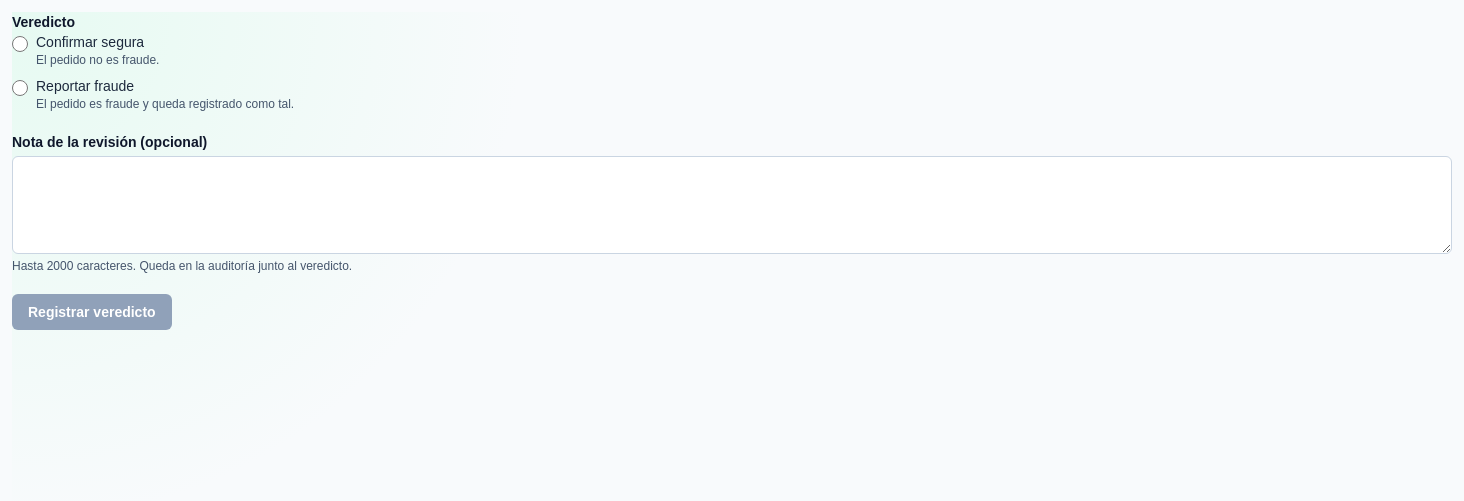
Test case: formulario de revisión › muestra el detalle de la API como información secundaria, no como el texto principal
Click the radio button labelled "Confirmar segura El pedido no es fraude." at (20,44), box [12,36,28,52]
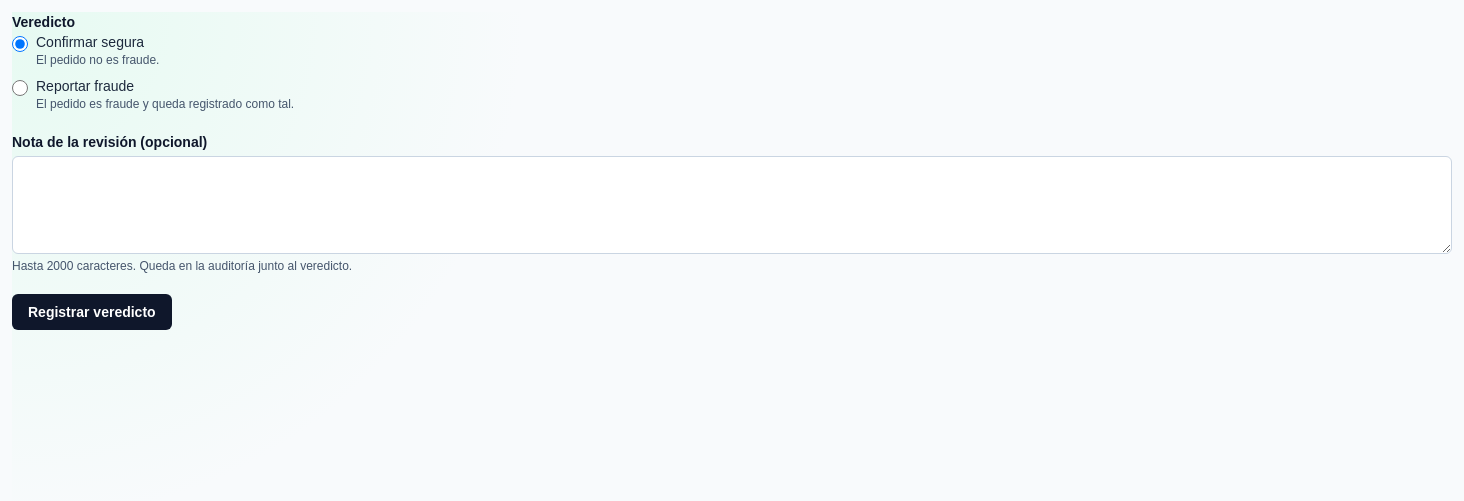
Submit the form named "Registrar veredicto"
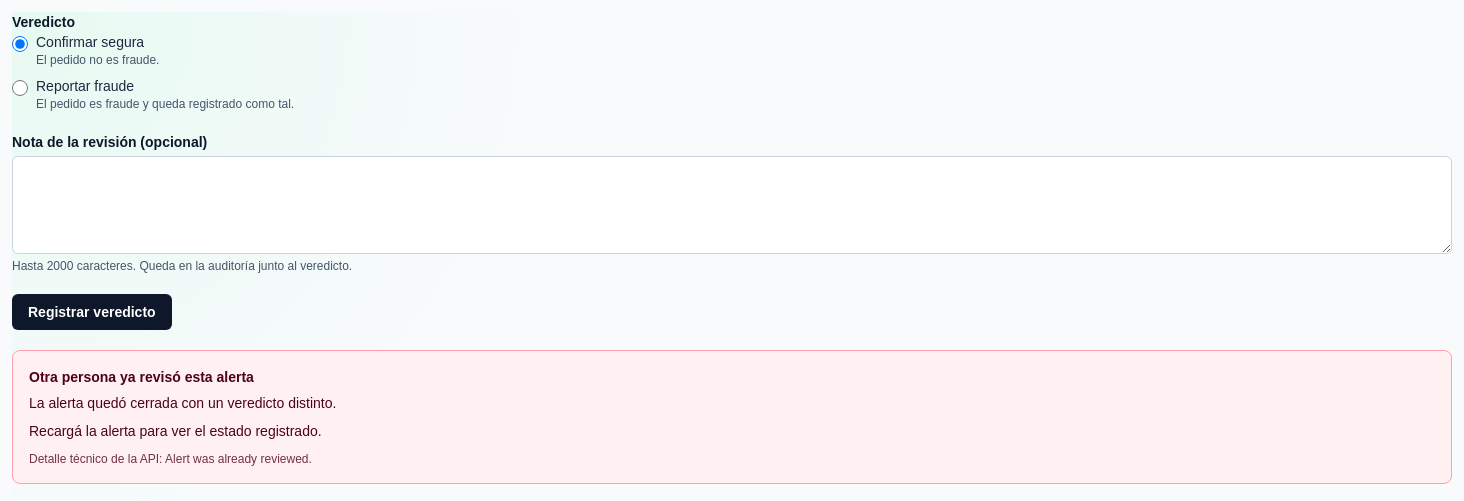
Expected: the message shows "Otra persona ya revisó esta alerta", [29,369,254,385]
Expected: the message shows "Detalle técnico de la API: Alert was already reviewed.", [29,452,312,466]
